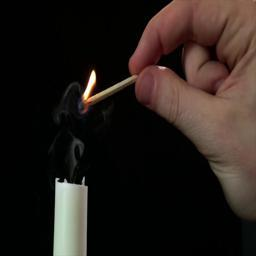fire: (83, 70, 96, 101)
